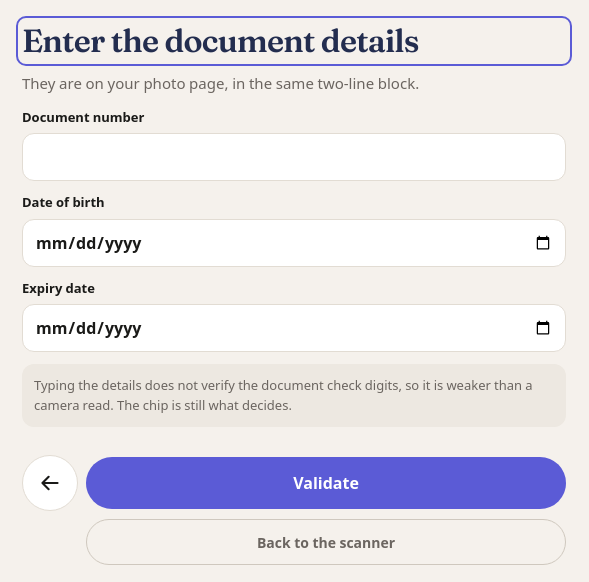
Test: DocumentVerificationJourney › accepts a validated manual entry and moves to the chip step
This screenshot has width=589, height=582.
In the field labelled "Document number": (294, 157) [22,133,566,181], type "L898902C3"
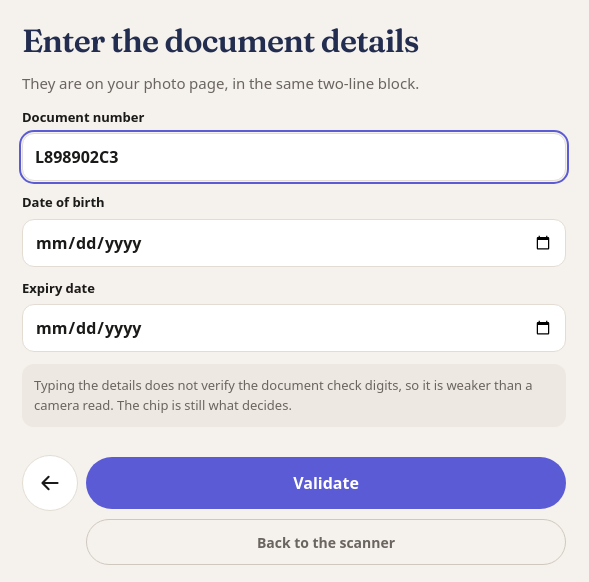
In the date field labelled "Date of birth": (294, 243) [22,219,566,267], type "1974-08-12"
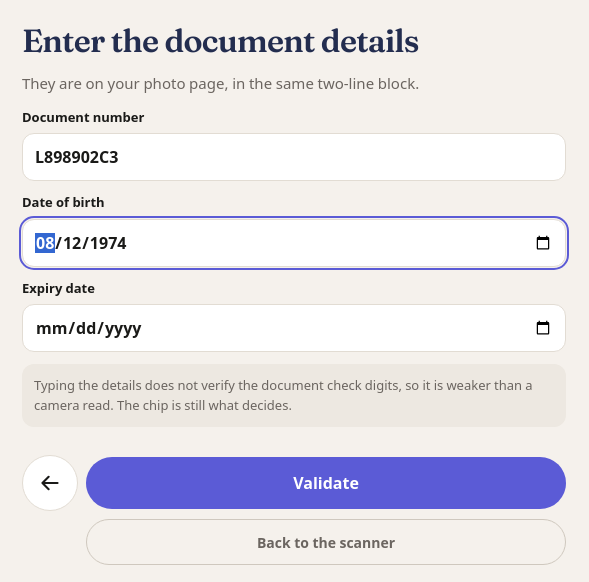
In the date field labelled "Expiry date": (294, 328) [22,304,566,352], type "2030-04-15"
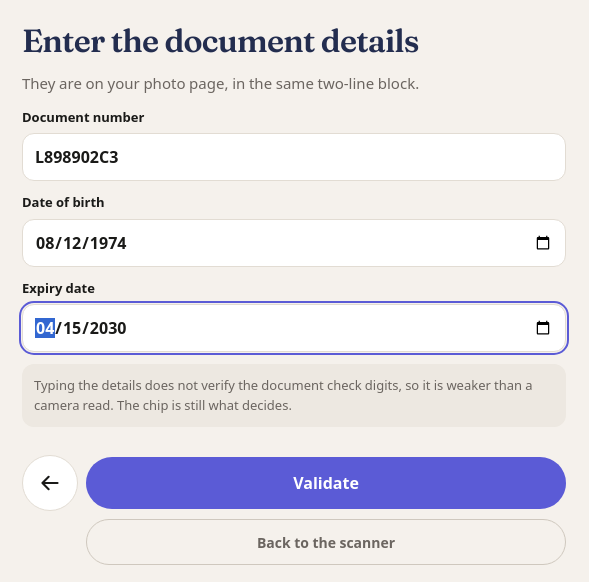
Click the button "Validate": (326, 483) [86,457,566,509]
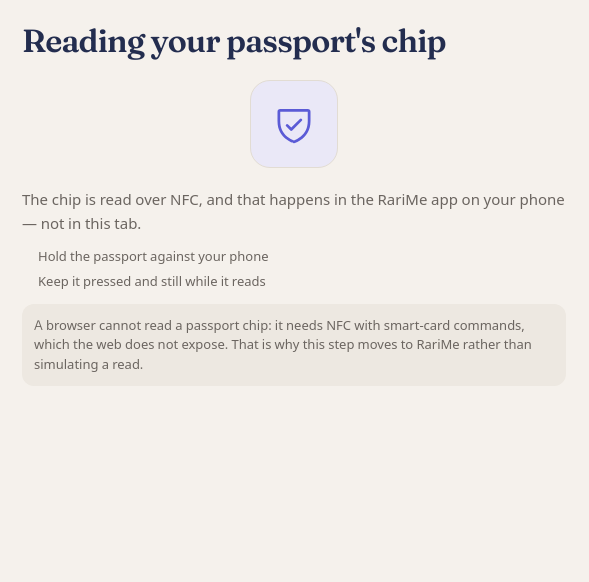
Expected: the heading "Reading your passport's chip" is shown, [22,21,446,60]
